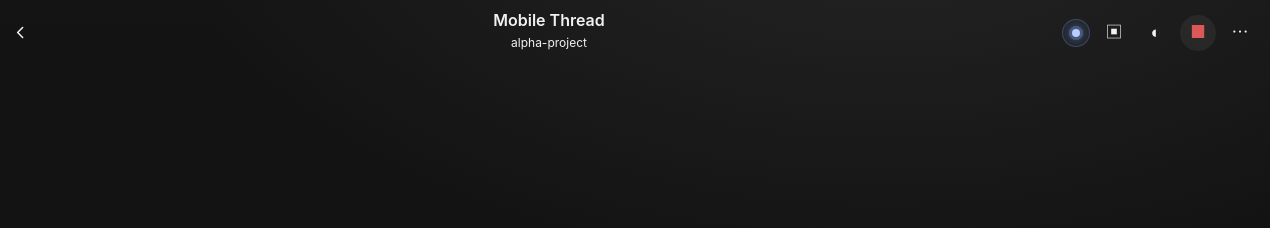
it: MobileChatTopBar slice 1: project label + view menu › lets the user switch view mode while a turn is running
Expected: the message "Thinking in progress..." is shown, x1=1062 y1=18 x2=1090 y2=46
What coordinates should you click on to do the following:
click the button with test id "mobile-topbar-views-toggle"
I would click on:
 (1156, 32)
Its box is x1=1138 y1=14 x2=1174 y2=50.
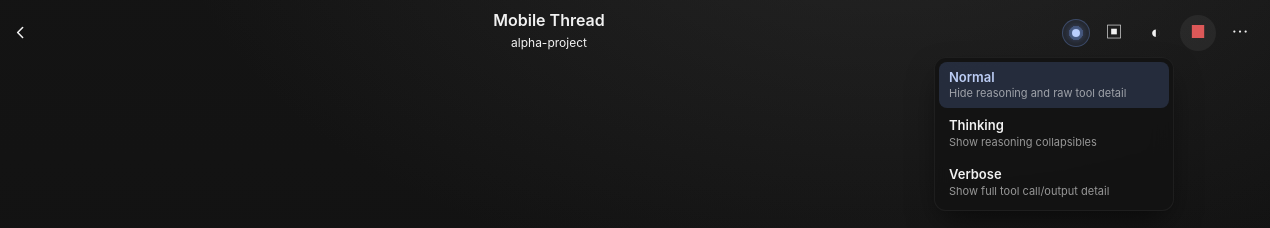
Now the menu with test id "mobile-topbar-views-menu" is shown, box x1=934 y1=56 x2=1174 y2=211
What coordinates should you click on to do the following:
click the menu item with test id "mobile-topbar-views-thinking"
I would click on:
 (1054, 134)
Its box is x1=939 y1=110 x2=1169 y2=157.
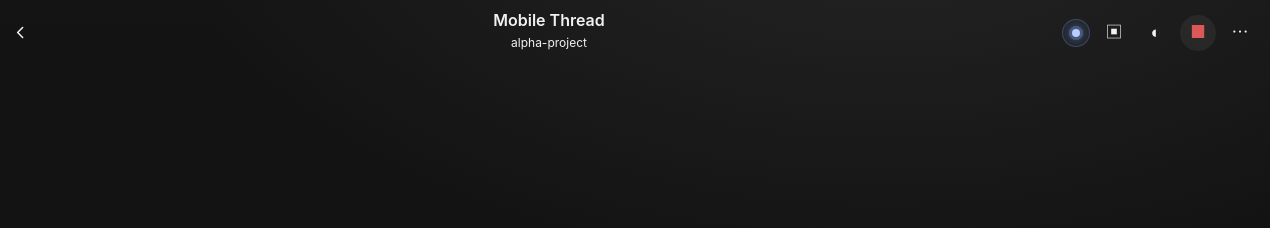
Expected: the button with test id "mobile-topbar-stop" is shown, x1=1180 y1=14 x2=1216 y2=50
Now the menu with test id "mobile-topbar-views-menu" is gone
